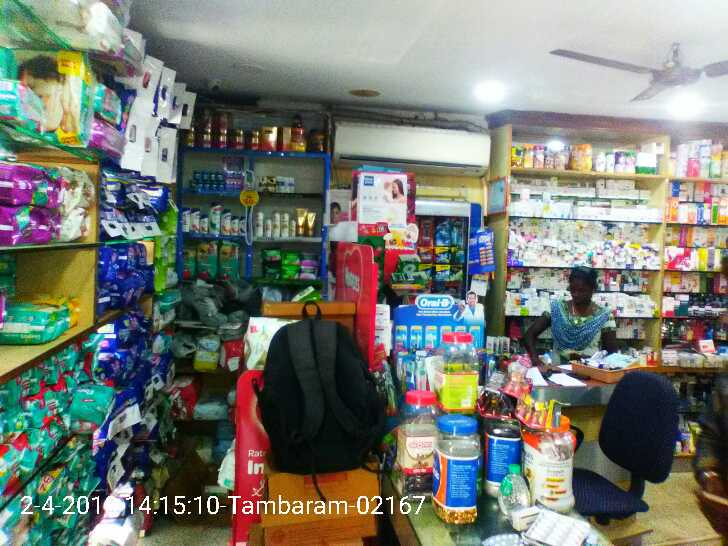oralcare: (396, 292, 482, 352), (396, 363, 434, 394), (471, 229, 497, 270)
vicks: (185, 171, 249, 196)
